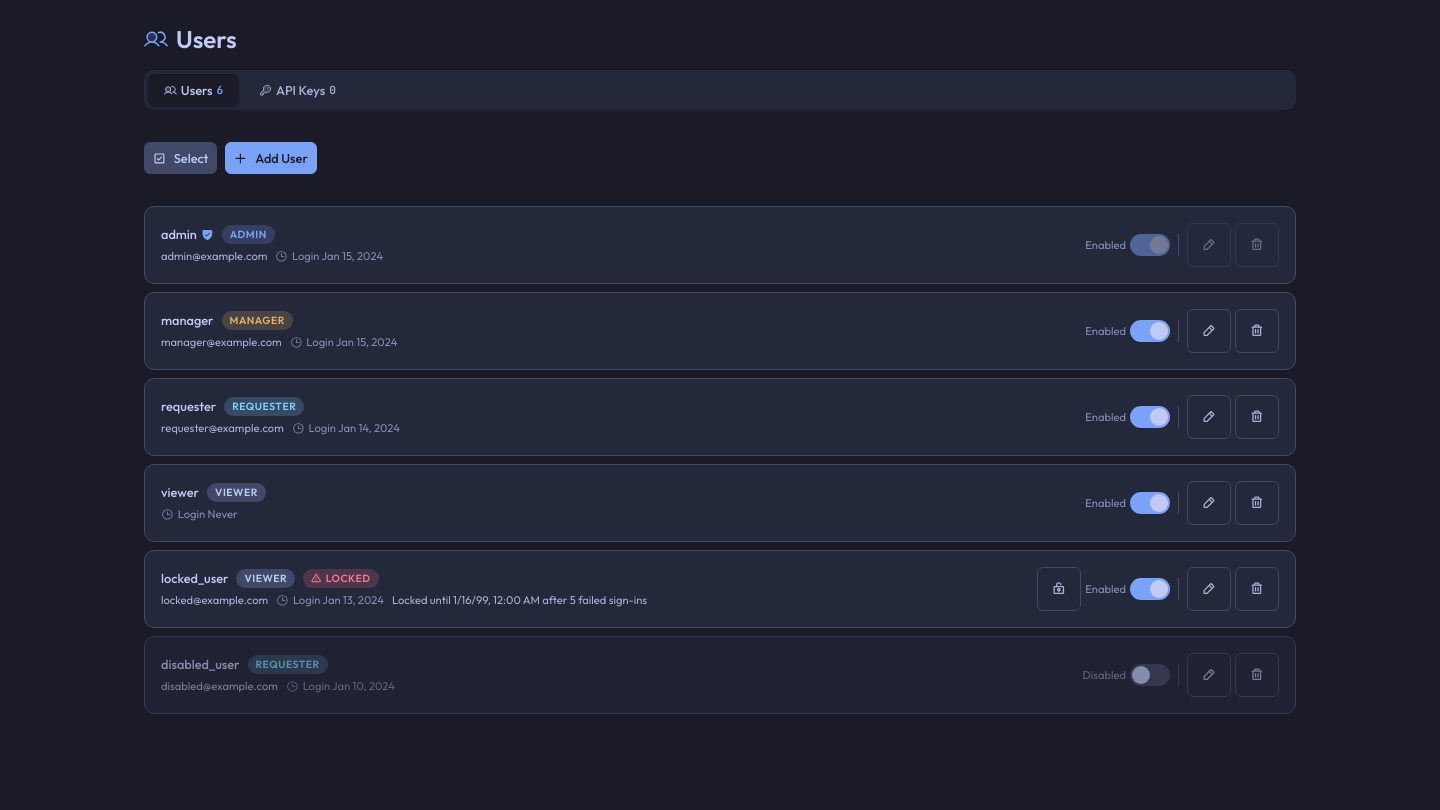
Test: UsersPage API Keys tab › opens the create dialog and requires a name before submitting
The width and height of the screenshot is (1440, 810).
What coordinates should you click on to do the following:
click the tab "API Keys 0"
I would click on:
 (298, 90)
Its box is [243, 74, 352, 106].
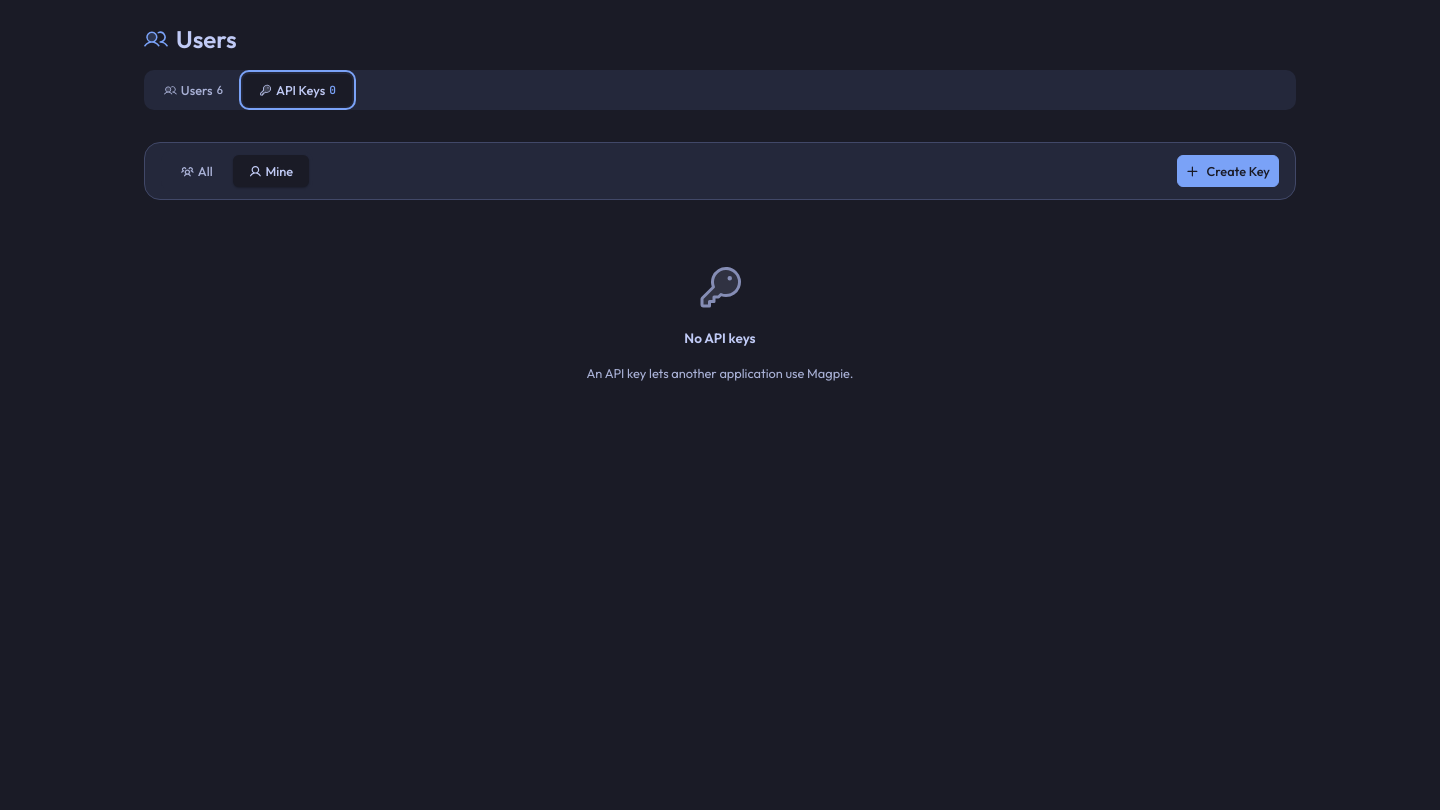
What coordinates should you click on to do the following:
click the button "Create Key"
I would click on:
 (1228, 171)
Its box is [1177, 155, 1279, 187].
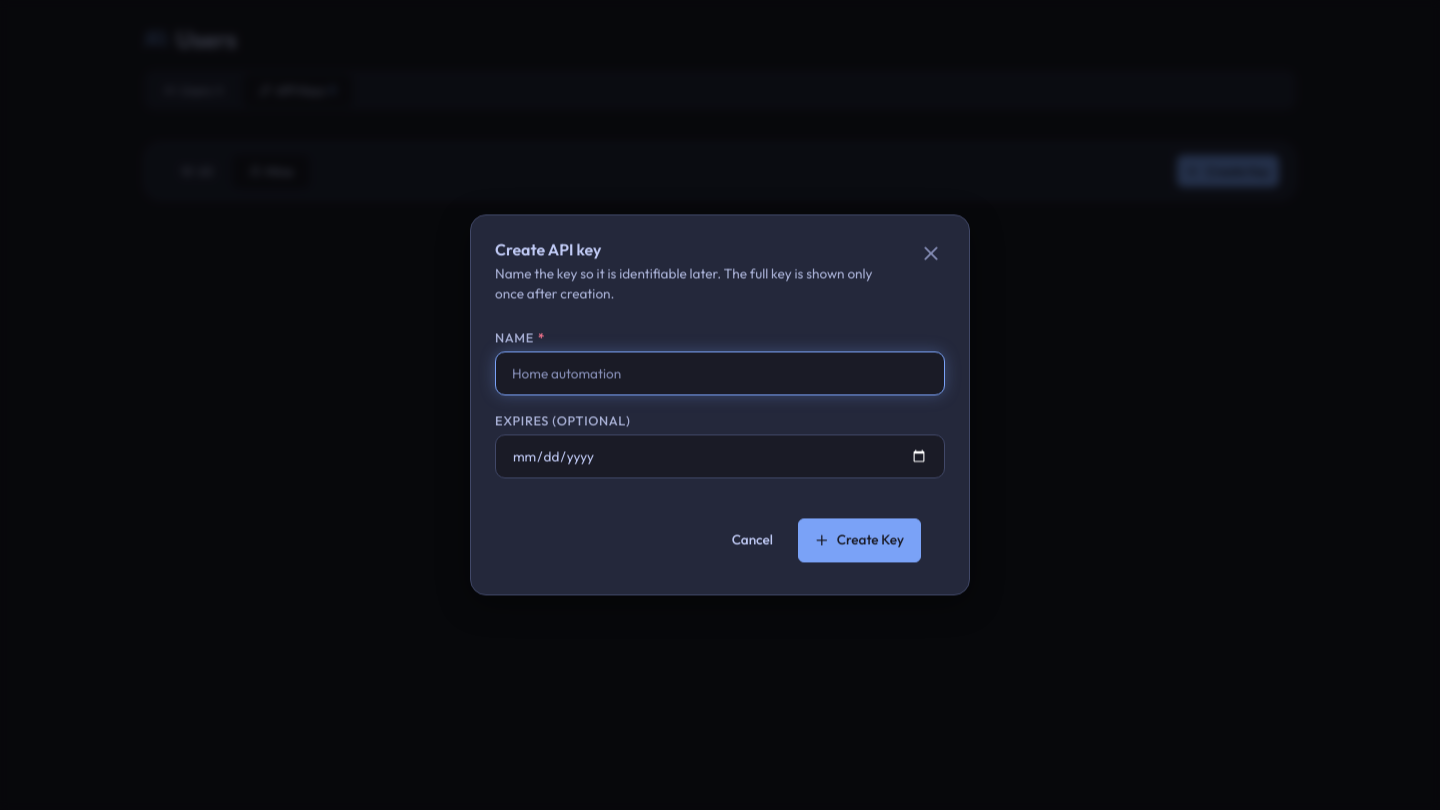
Check: the dialog is shown, box [470, 214, 970, 596]
What coordinates should you click on to do the following:
click the button "Create Key"
I would click on:
 (860, 541)
Its box is [798, 519, 921, 563].
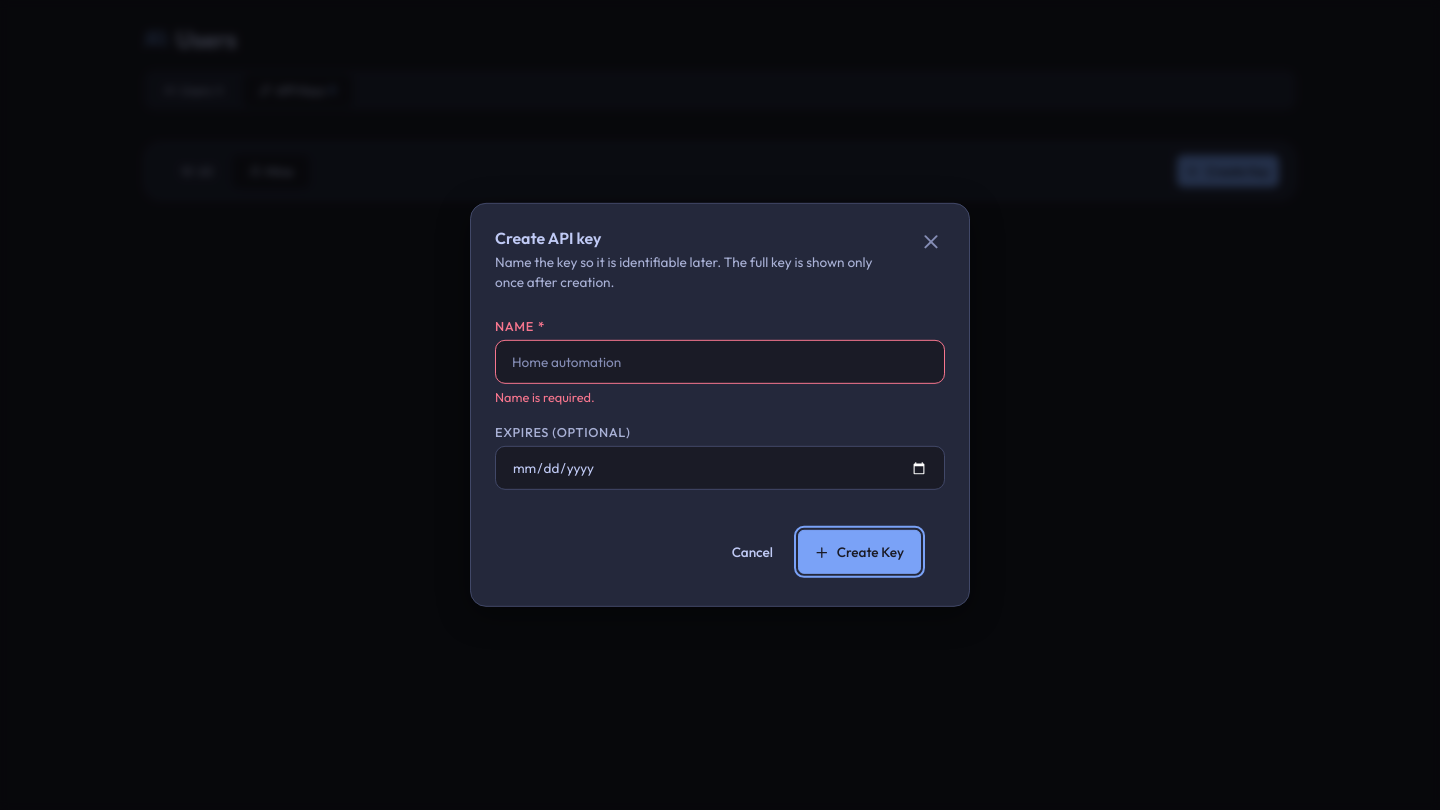
Check: the text "Name is required." is shown, box [495, 389, 595, 405]
